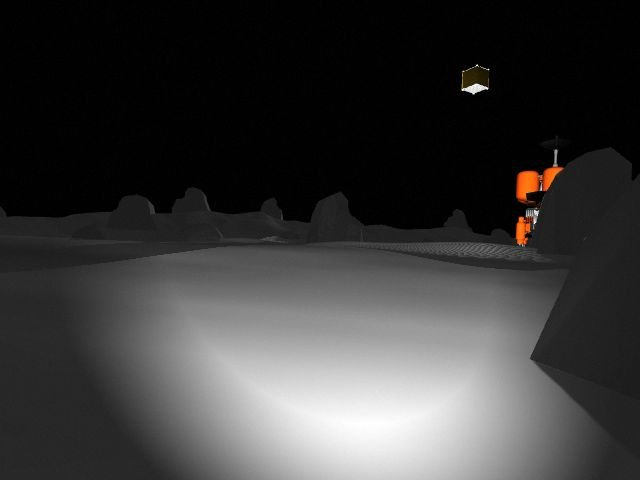cubesat: (455, 61, 495, 99)
